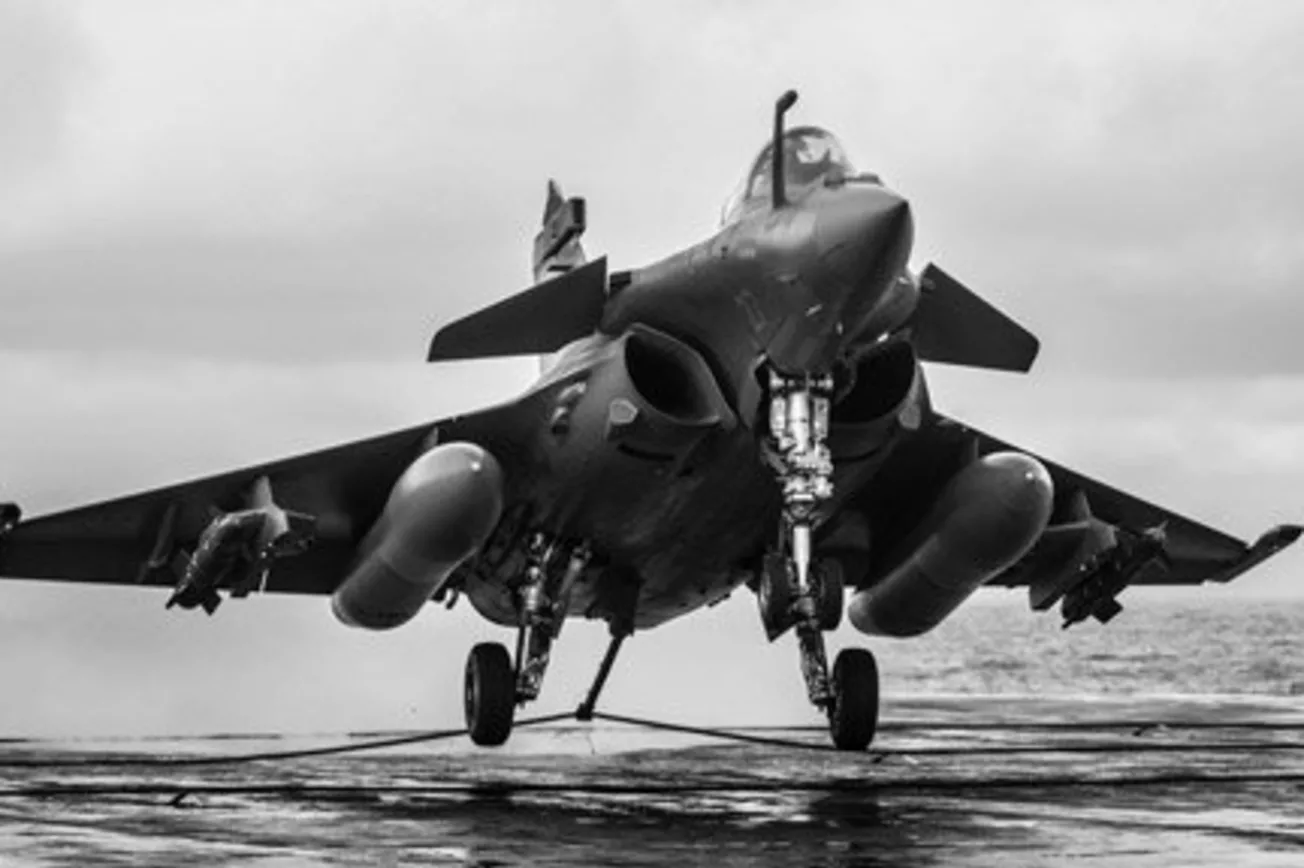Rafale: (4, 90, 1302, 750)
